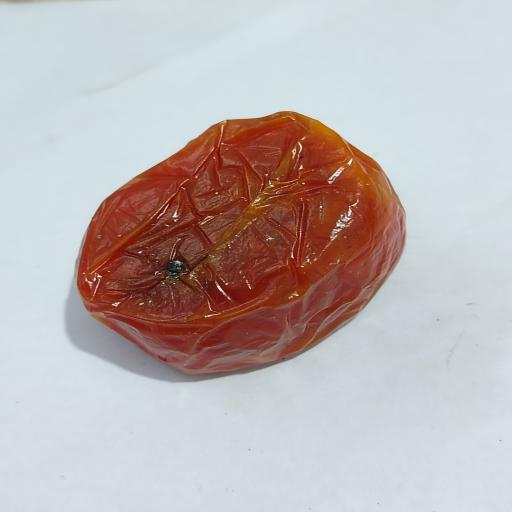spoiled: (77, 113, 404, 372)
